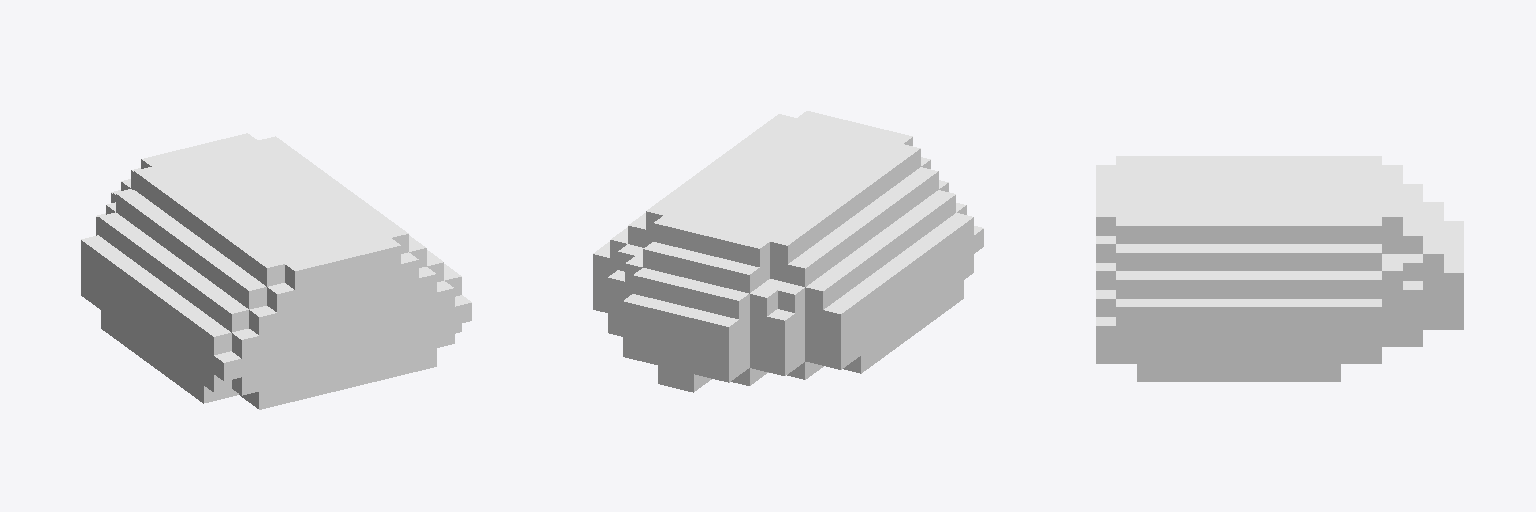
File: kabuBody.obj
3 renders of one model, left to right at view 1: azimuth 30°, elevation 25°; view 2: azimuth 150°, elevation 25°; view 3: azimuth 270°, elevation 25°, orthographic.
Visible parts, largest first — view 1: object 1; view 2: object 1; view 3: object 1.
Part boxes in pixels (x1,y1,x2,y2): object 1: (81,133,471,409); object 1: (593,111,983,392); object 1: (1096,156,1463,381).
Bounding box in the file's own units: 2.8 × 1.4 × 3.6.